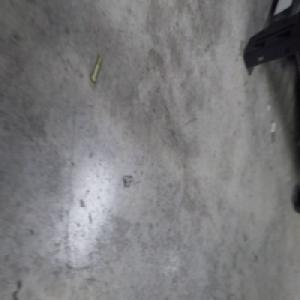Bolt: (89, 54, 103, 87)
